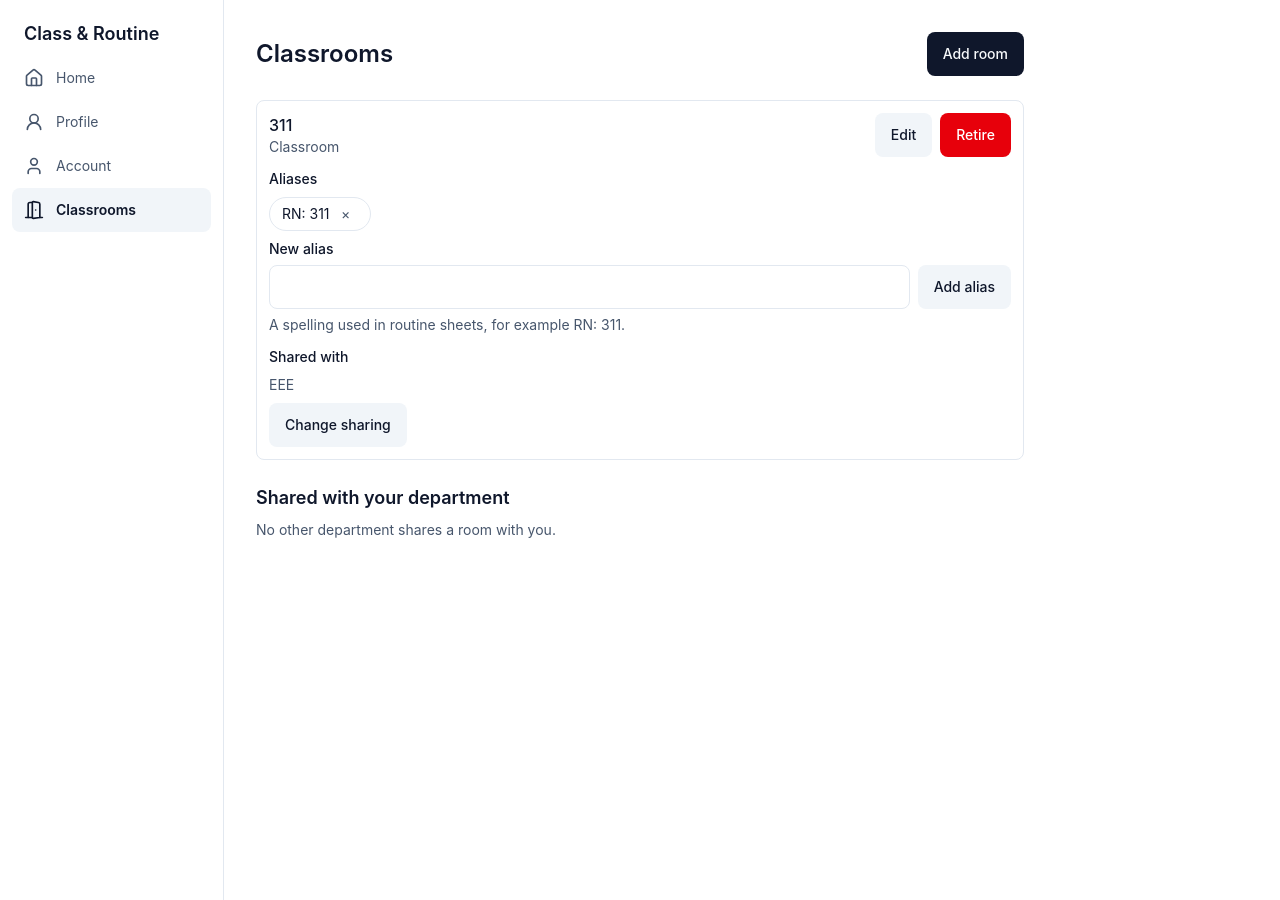
Test: classrooms screens (spec 05) › ROOM-02 an alias that is taken shows the server error
The width and height of the screenshot is (1280, 900).
Type "rn: 311" into the field labelled "New alias" at (589, 287), box [269, 265, 910, 309]
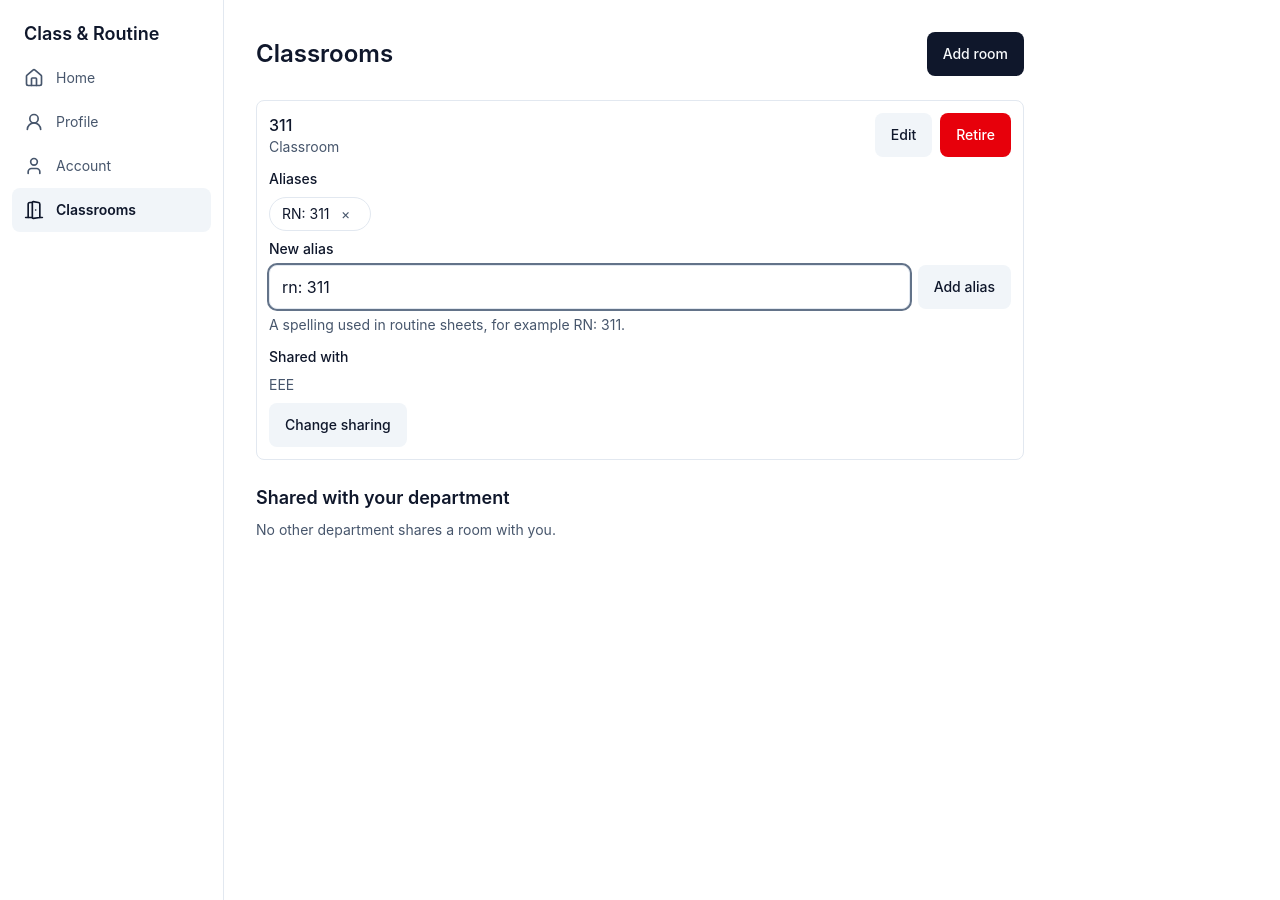
Click the button "Add alias" at (964, 287), box [918, 265, 1011, 309]
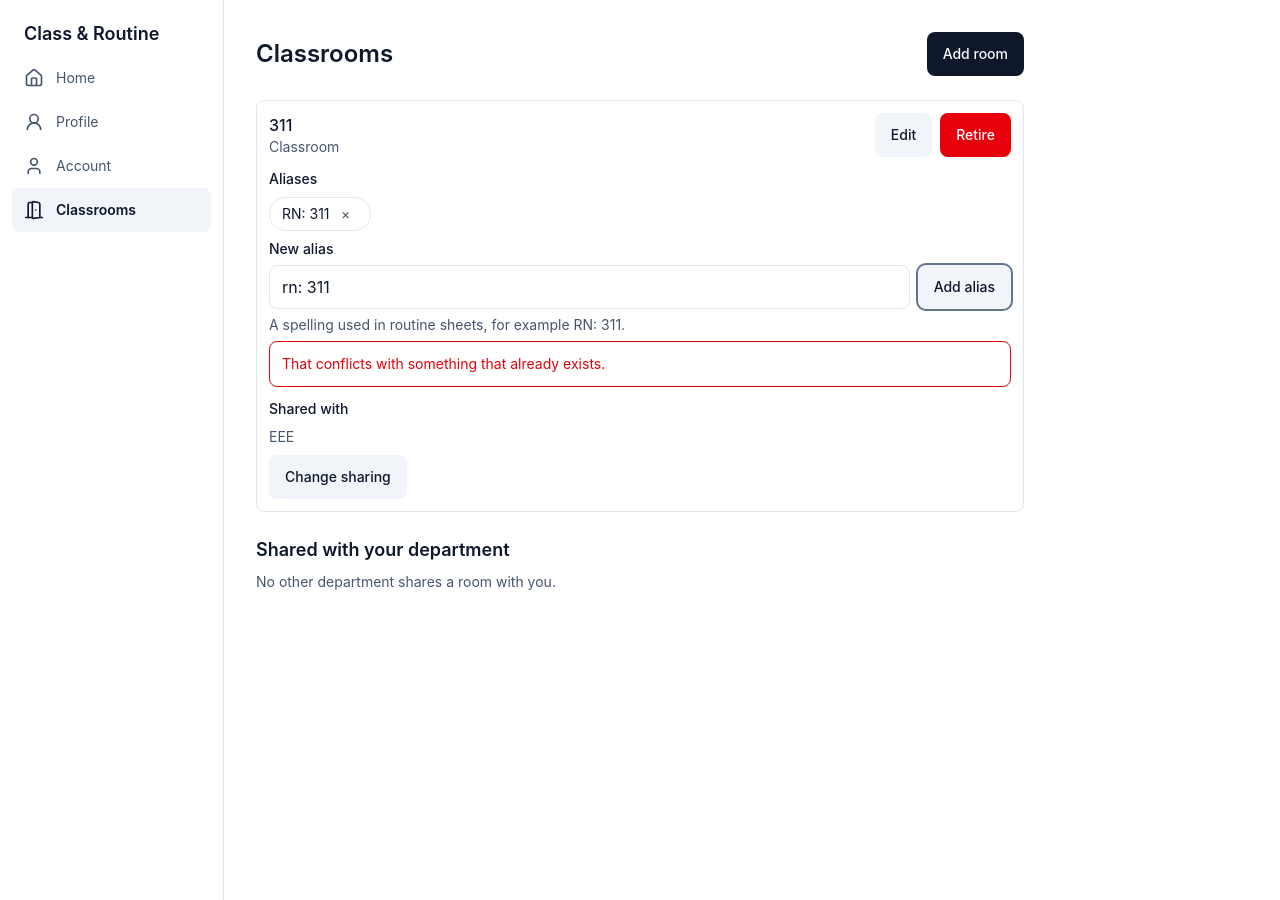
Now the text "That conflicts with something that already exists." is shown, box [269, 341, 1011, 387]
